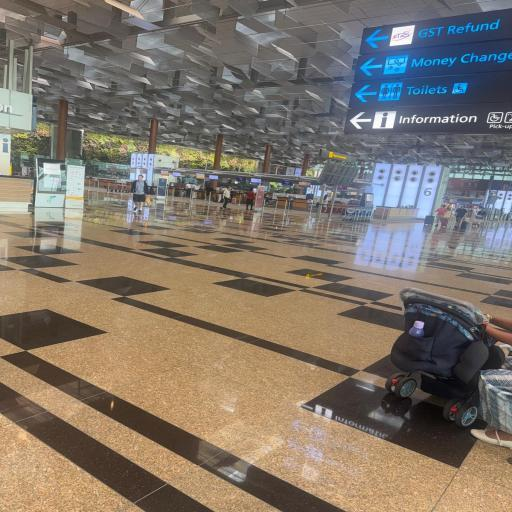person_right: (246, 187, 256, 210), (467, 206, 476, 226), (476, 208, 486, 225)
person_with_luggage_left: (424, 204, 449, 230)
person_with_luggage_right: (454, 205, 468, 230)
